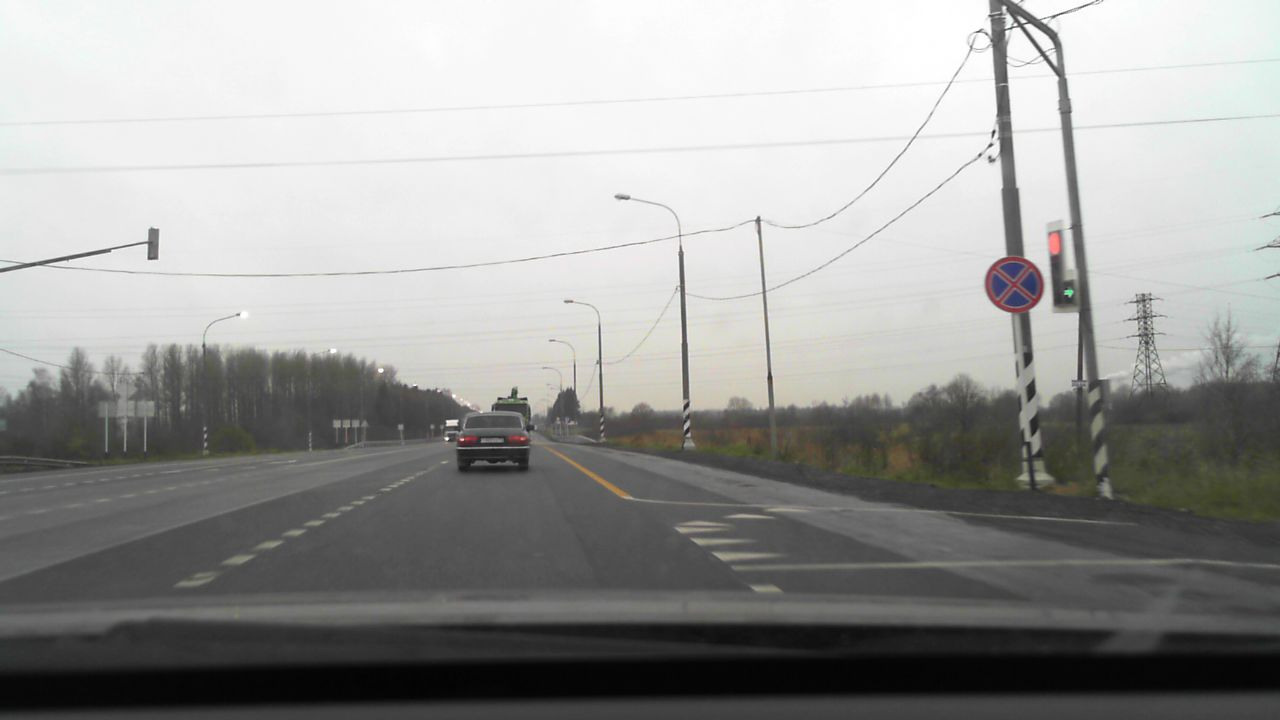No Parking: (984, 255, 1045, 314)
